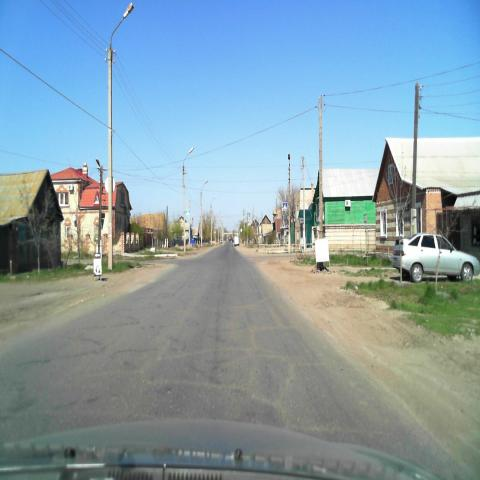5_19_1: (283, 201, 288, 211)
